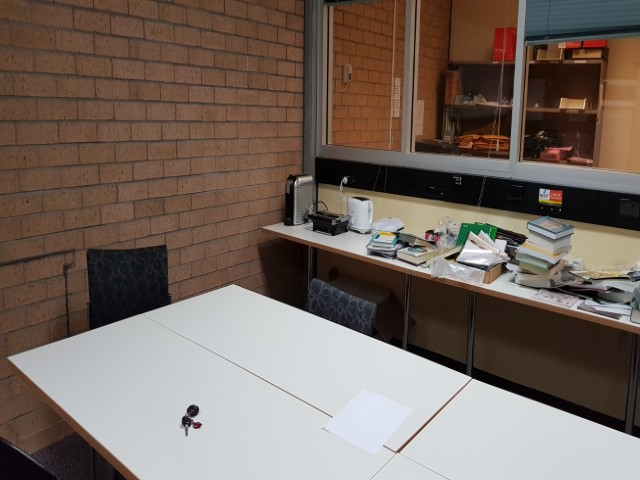key: (182, 416, 191, 435)
